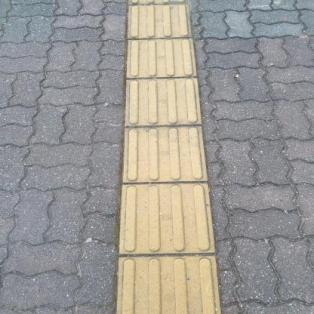Podoctatil: (104, 0, 230, 313)
